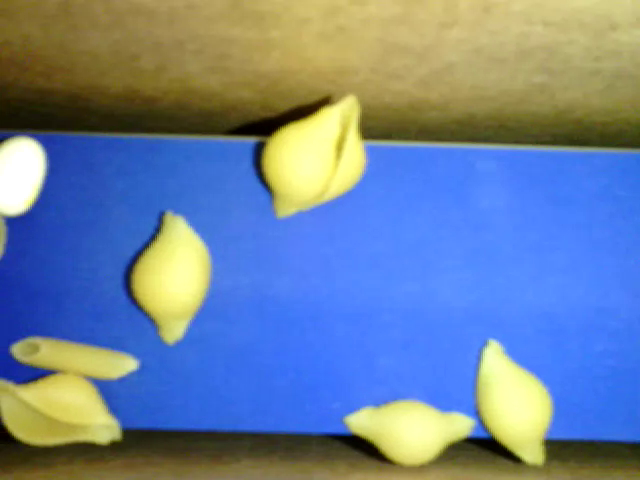penne: (11, 334, 140, 380)
shell: (261, 93, 366, 219), (126, 208, 212, 346), (475, 337, 553, 465), (1, 372, 121, 447), (342, 401, 474, 466)
